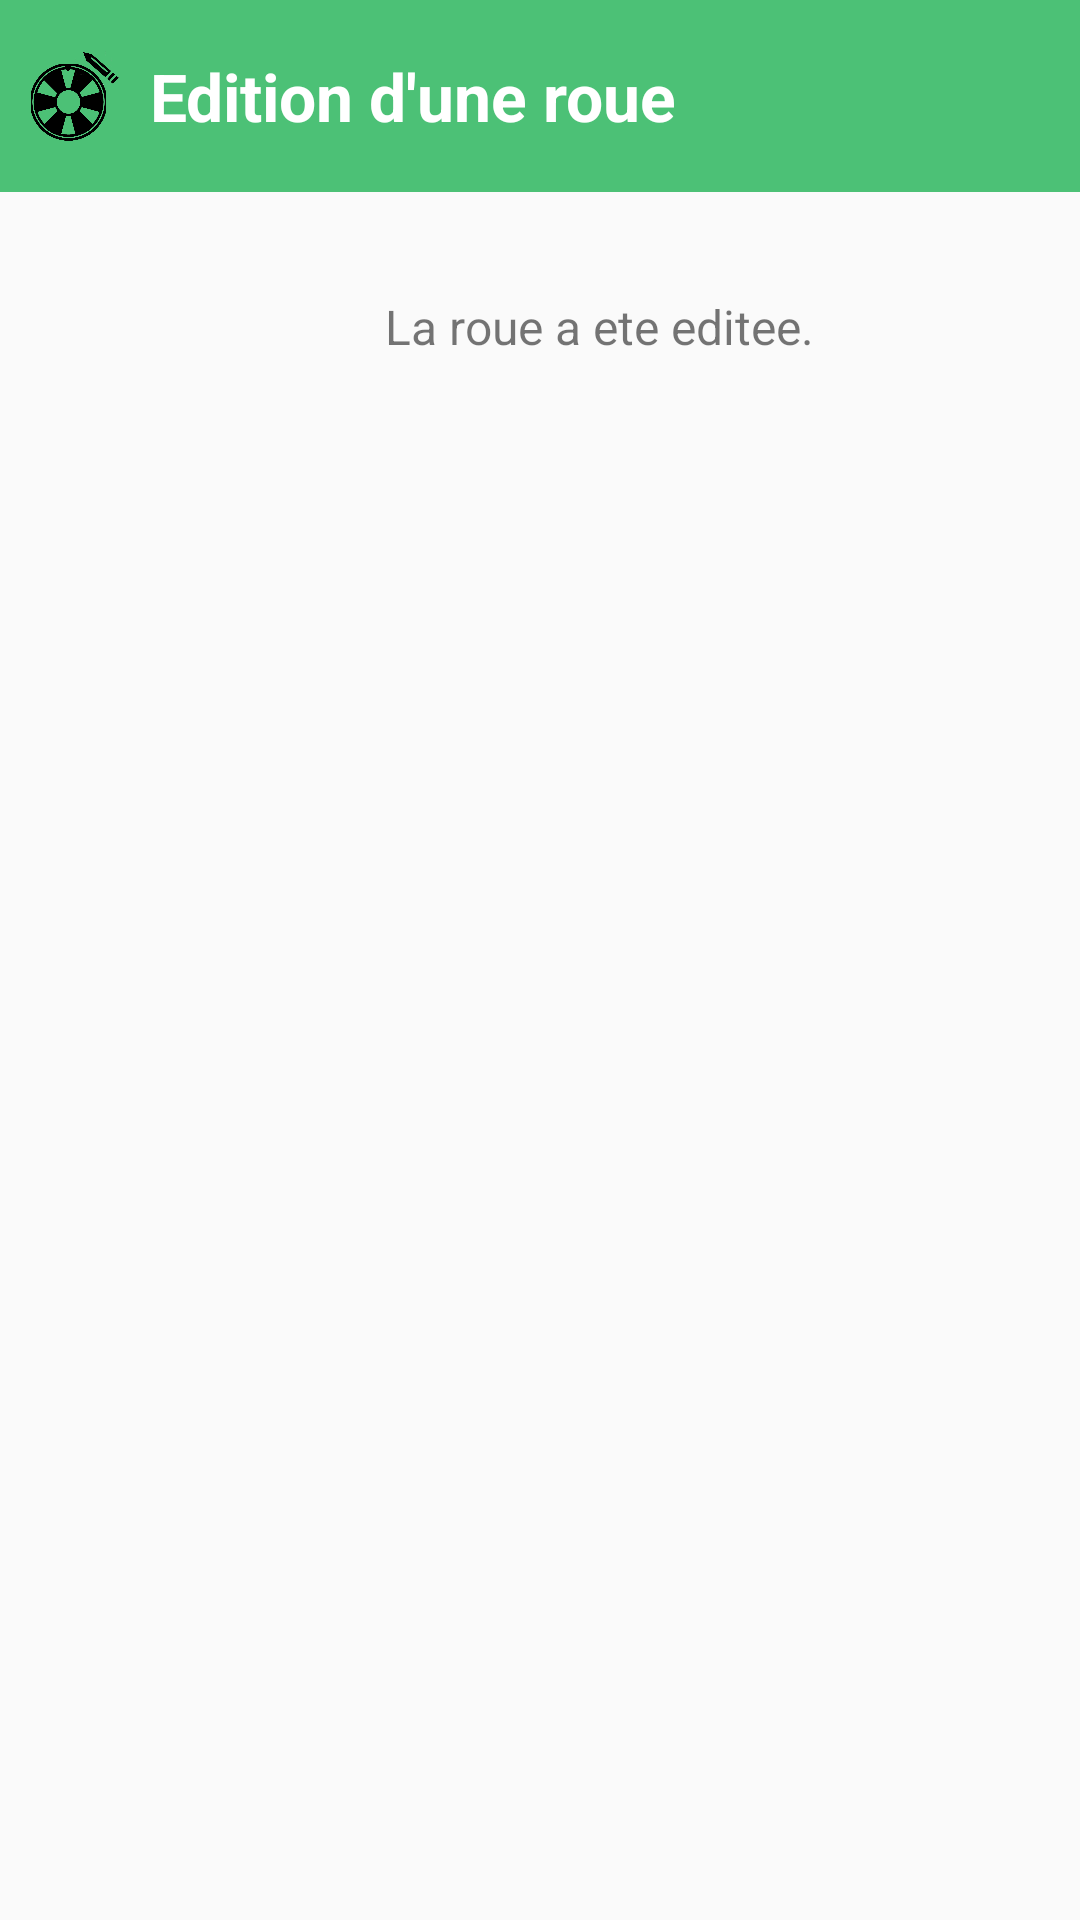

Where to tap for icons on this 1080w x 1920h app screen, as (x,y):
edit wheel: (75,96)
